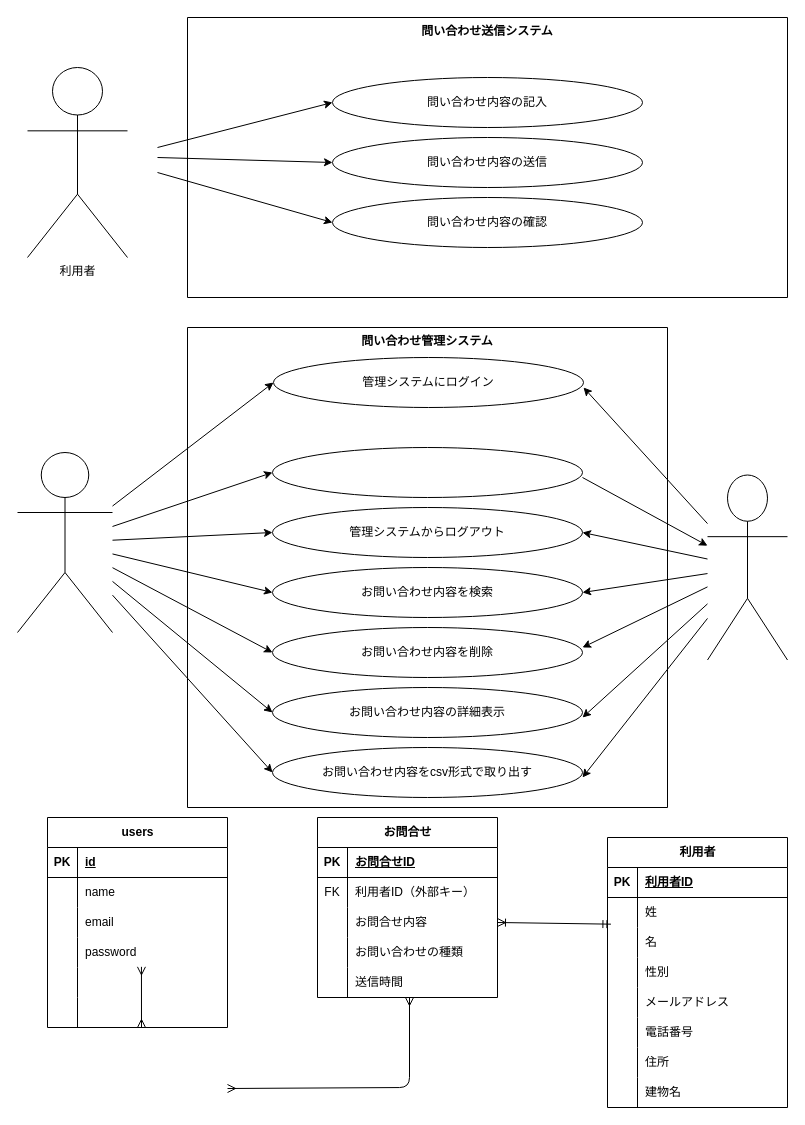
This 805x1125 diagram has some shape labels left out. The shapes that lost their labels are listed below. From the top down, each one's centre as x and y in pixels, then its label:
At [427,472]: "新規ユーザーの作成・登録".
At [64,542]: "管理者".
At [747,567]: "新規管理者".
